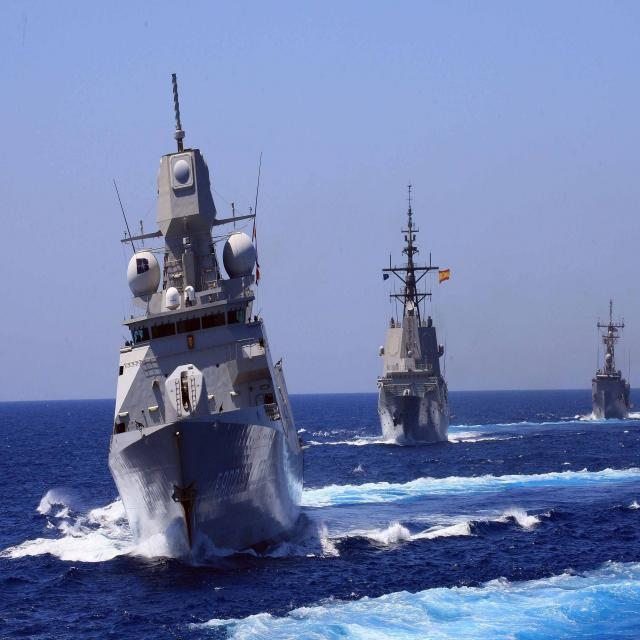navalvessels: (92, 84, 302, 555), (343, 202, 454, 440), (575, 299, 640, 425)
